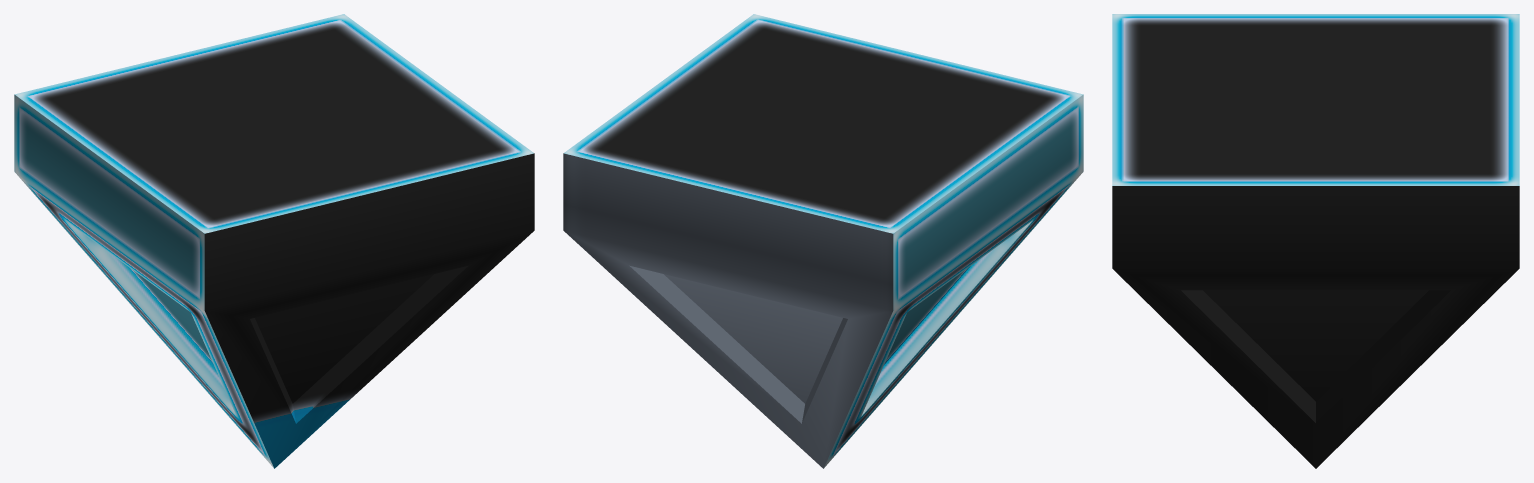
Rendered from BlockFlying.fbx.
The picture shows the model from 3 angles, left to right: view 1: azimuth 30°, elevation 25°; view 2: azimuth 150°, elevation 25°; view 3: azimuth 270°, elevation 25°; orthographic projection. The views are drawn at different scales.
Visible parts, largest first — view 1: Block_Flying; view 2: Block_Flying; view 3: Block_Flying.
Boxes of the visible parts, x1,y1,x2,y2 form: Block_Flying: (14,14,534,468); Block_Flying: (563,14,1083,468); Block_Flying: (1112,14,1519,468).
Bounding box in the file's own units: 1 × 1 × 1.
